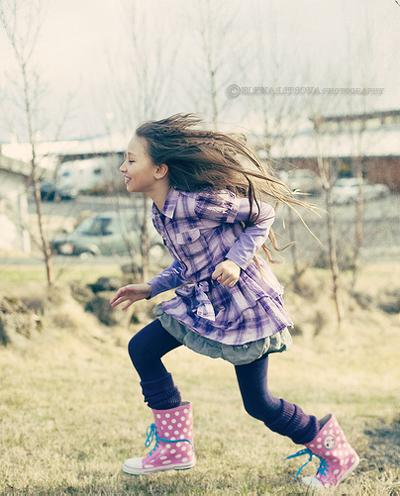person: (111, 117, 361, 495)
